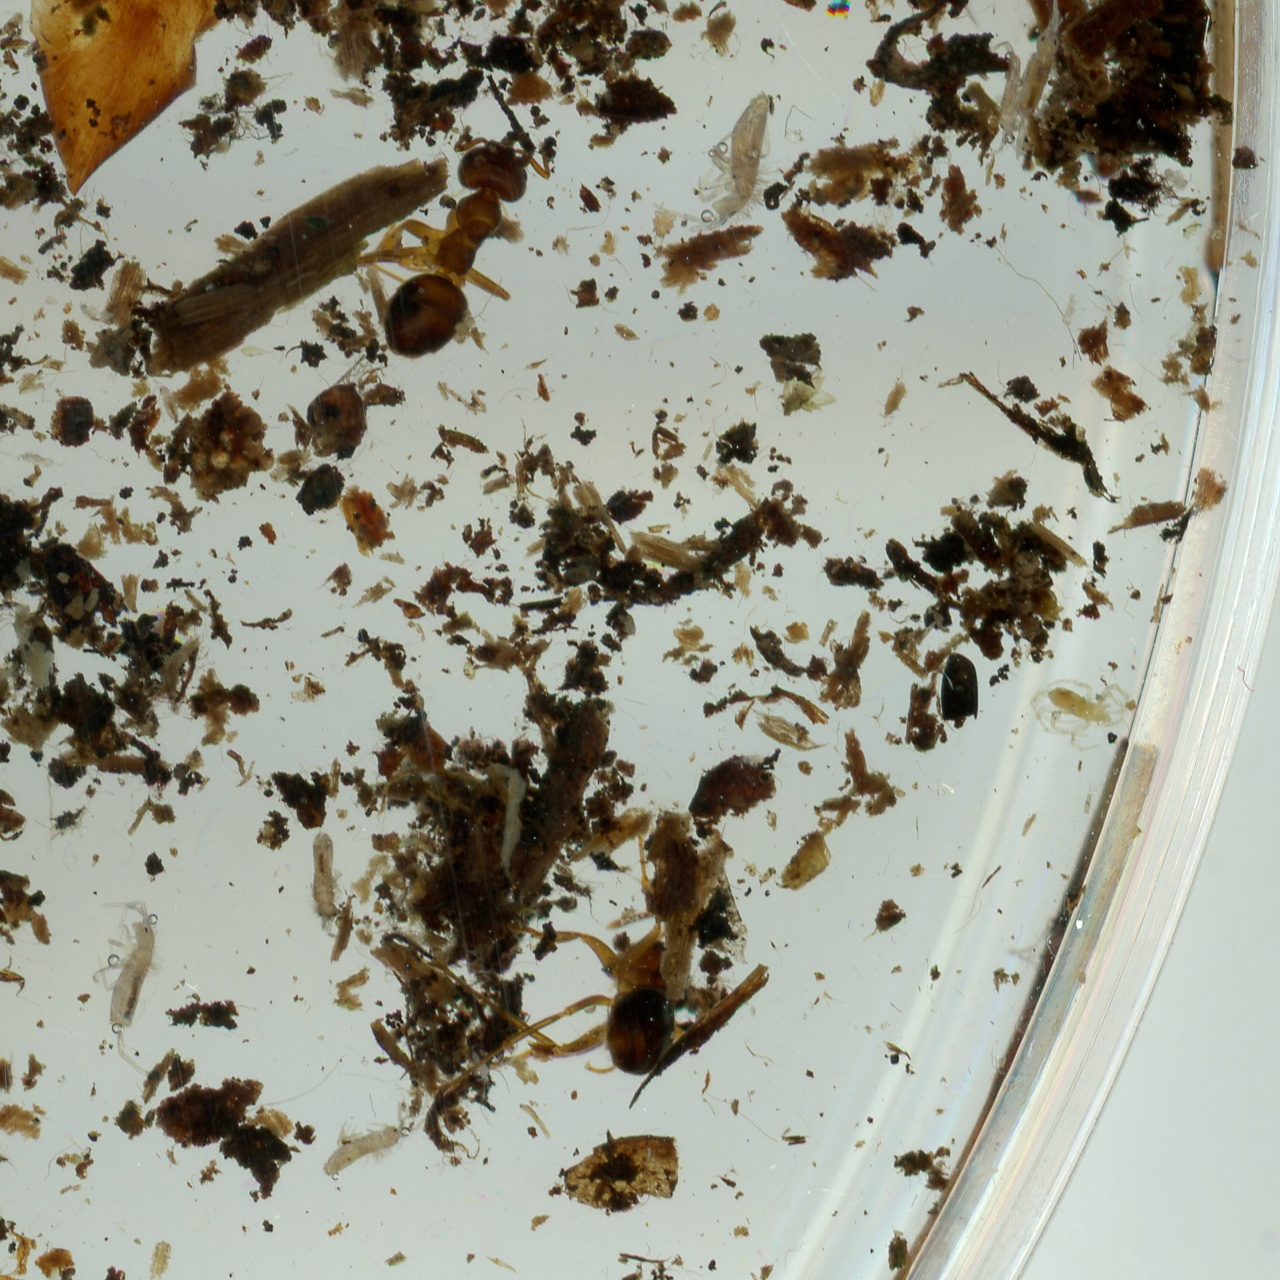arthropod: (350, 121, 551, 384), (539, 917, 698, 1082), (648, 72, 794, 248), (69, 890, 182, 1080), (0, 1133, 125, 1280), (996, 0, 1078, 166), (305, 1088, 433, 1182), (1030, 676, 1128, 751), (147, 630, 203, 716), (992, 39, 1025, 158), (310, 829, 341, 937), (151, 377, 187, 427), (12, 446, 70, 475), (649, 205, 679, 248), (76, 299, 118, 325), (1060, 293, 1085, 331), (1163, 163, 1194, 192), (470, 1050, 492, 1086)
